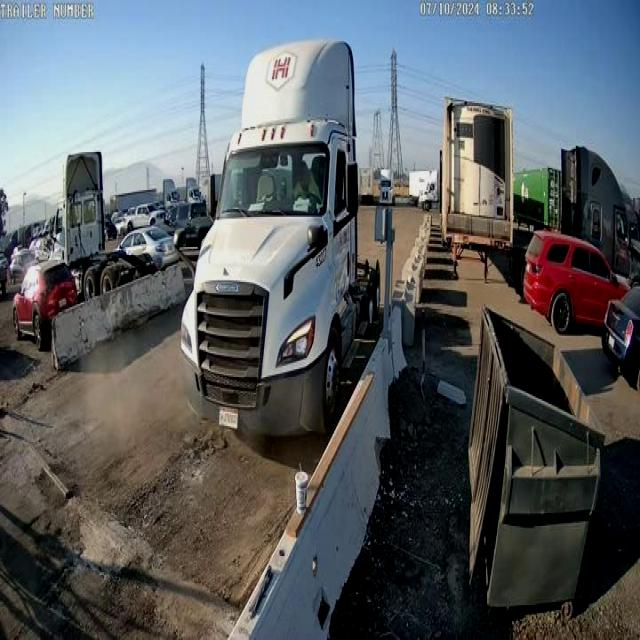BOBTAIL: (179, 37, 380, 440)
